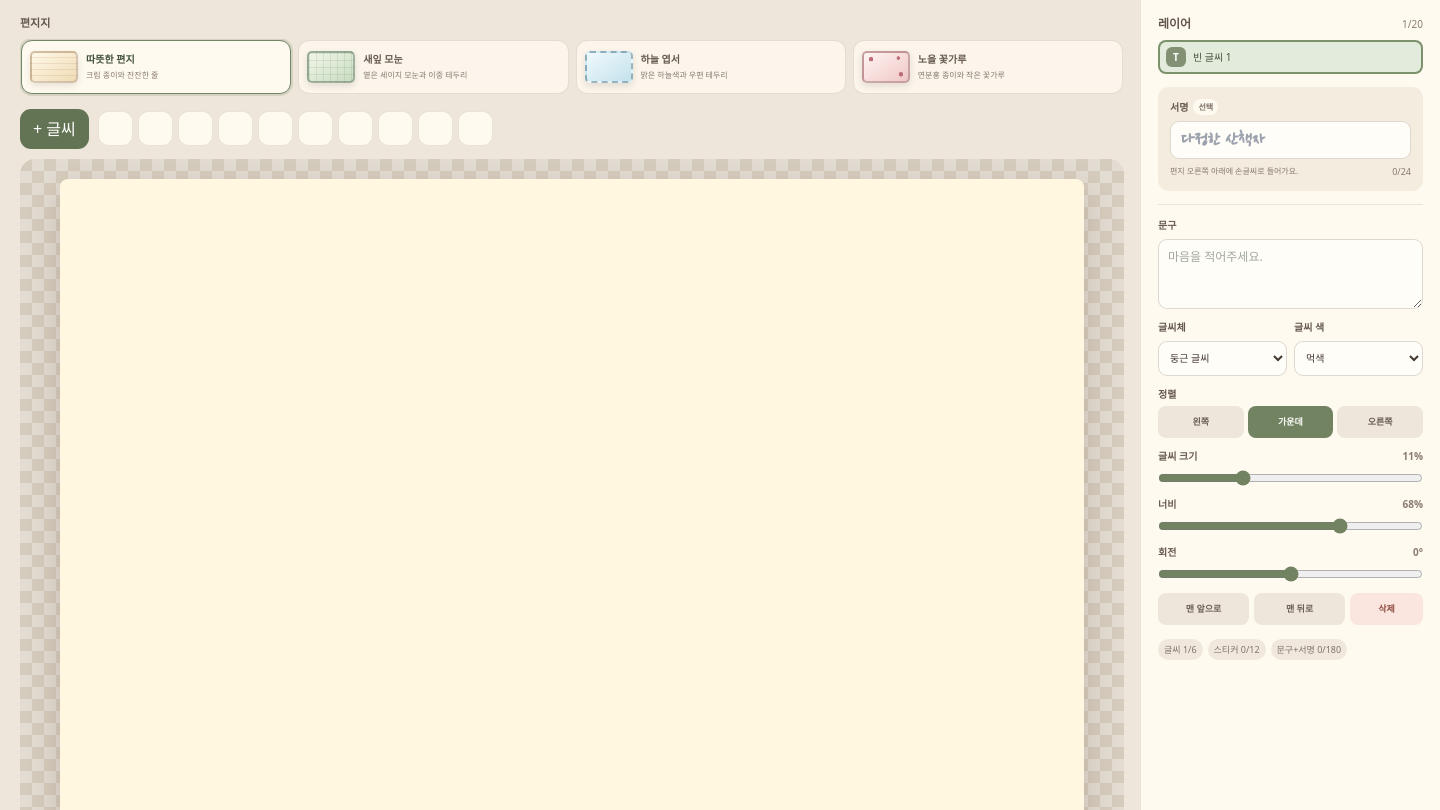
guestbook letter editor › renders every toolbar sticker as its real artwork instead of a placeholder glyph
The image size is (1440, 810).
Click the button named "스티커 추가": (435, 128) [418,111,453,146]
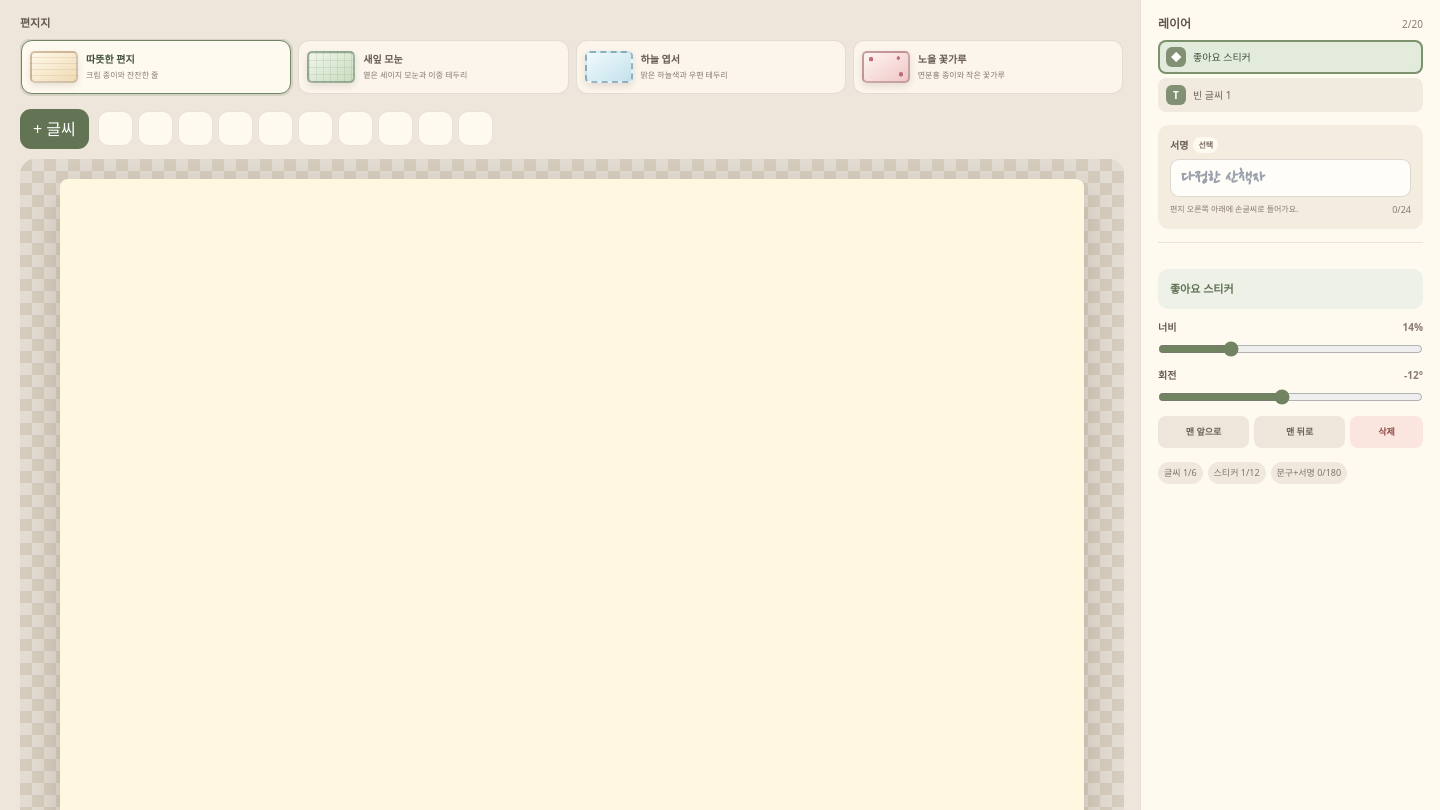
expect the number of buttons "◆ 좋아요 스티커" is 2: met, box [1158,40,1423,74]; [1158,268,1423,309]
Click the button named "스티커 추가": (475, 128) [458,111,493,146]
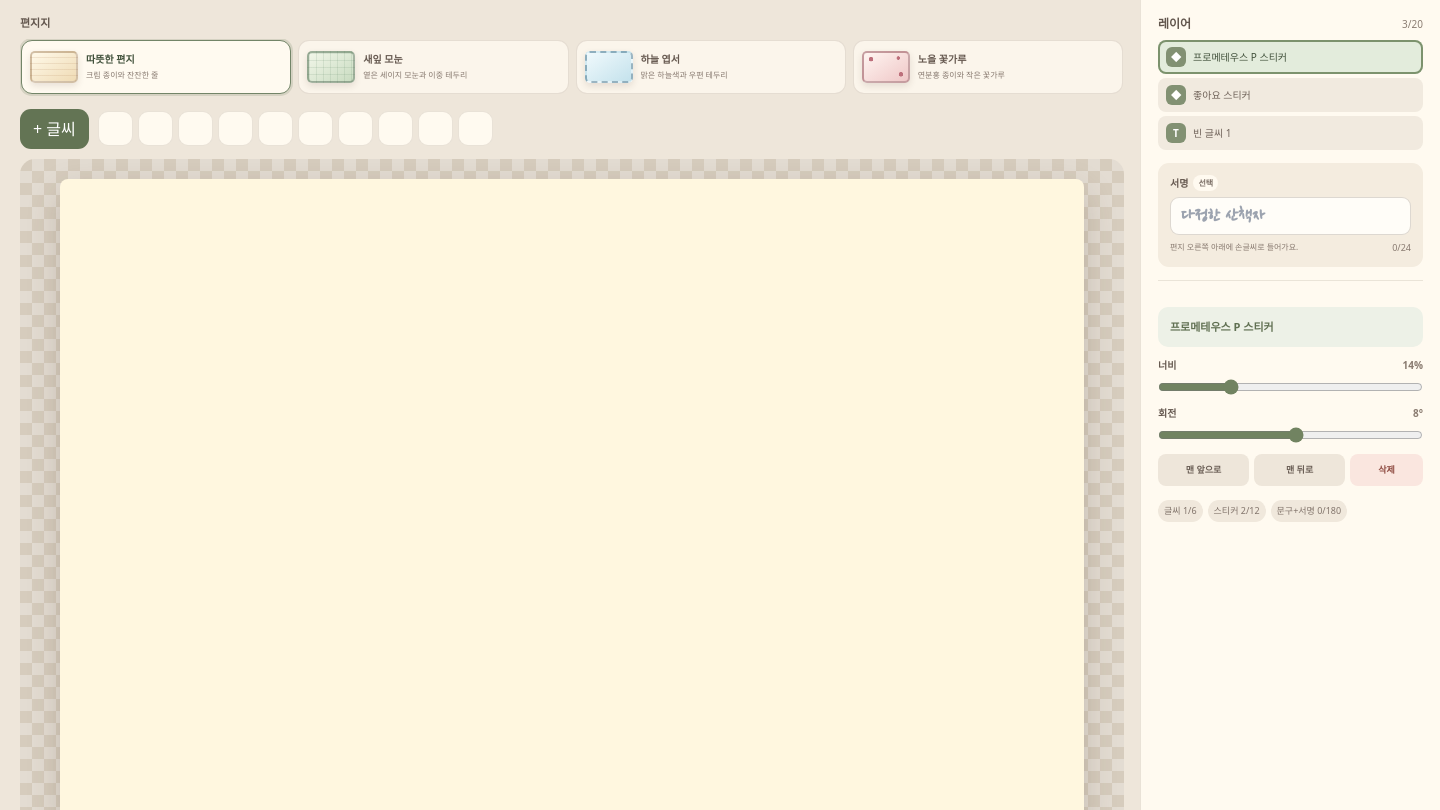
expect the number of buttons "◆ 프로메테우스 P 스티커" is 2: met, box [1158,40,1423,74]; [1158,306,1423,347]
